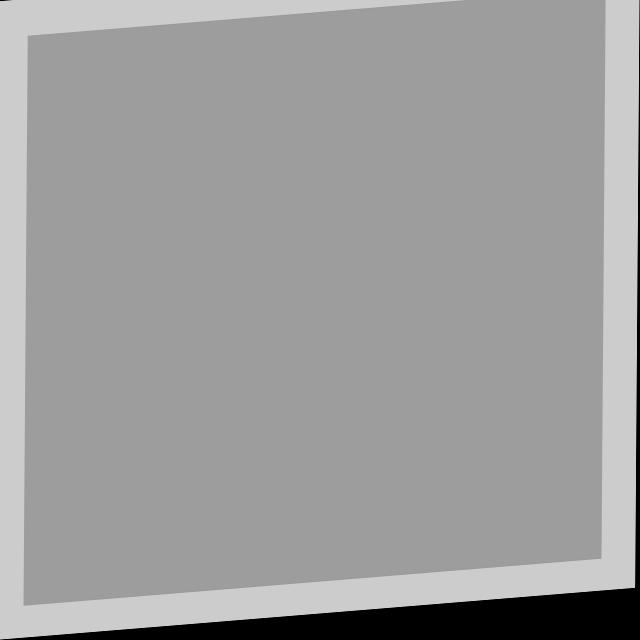qr_code: (24, 0, 606, 604)
